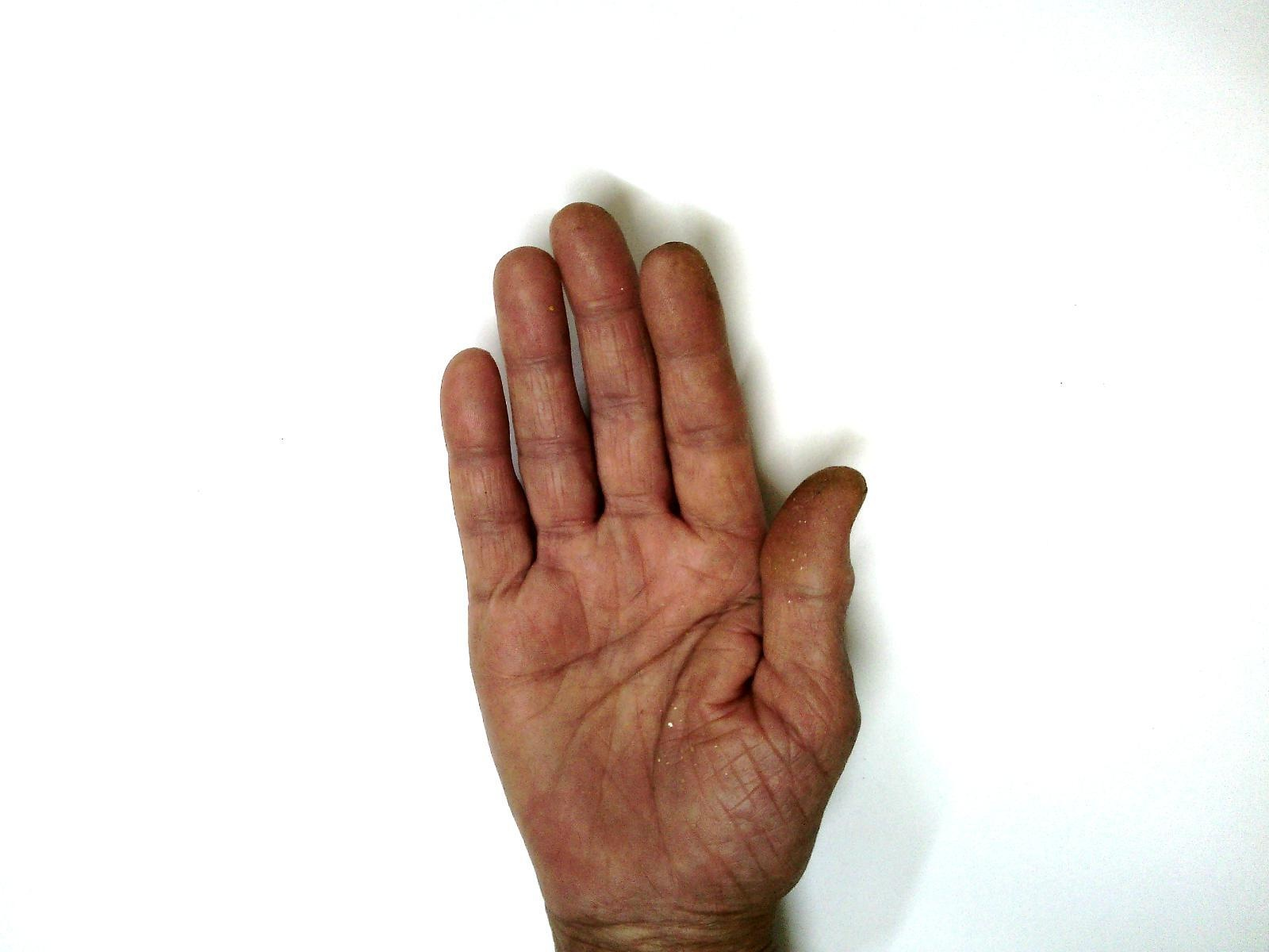open_palm: (436, 200, 881, 927)
